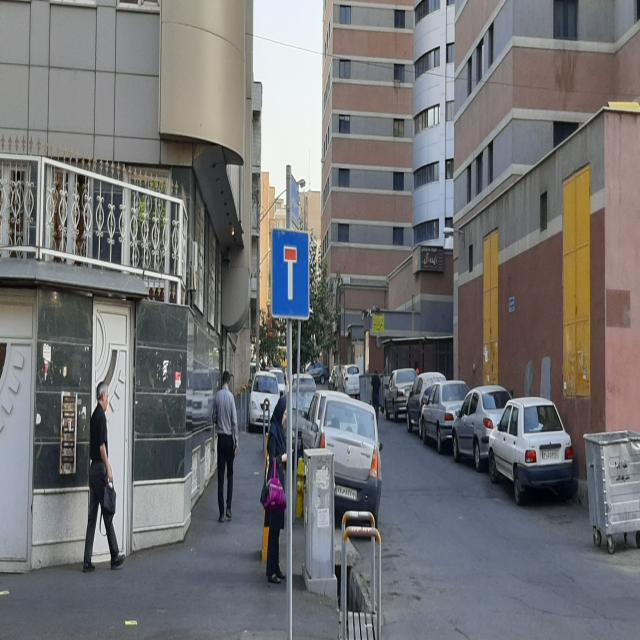no through road: (272, 233, 308, 321)
